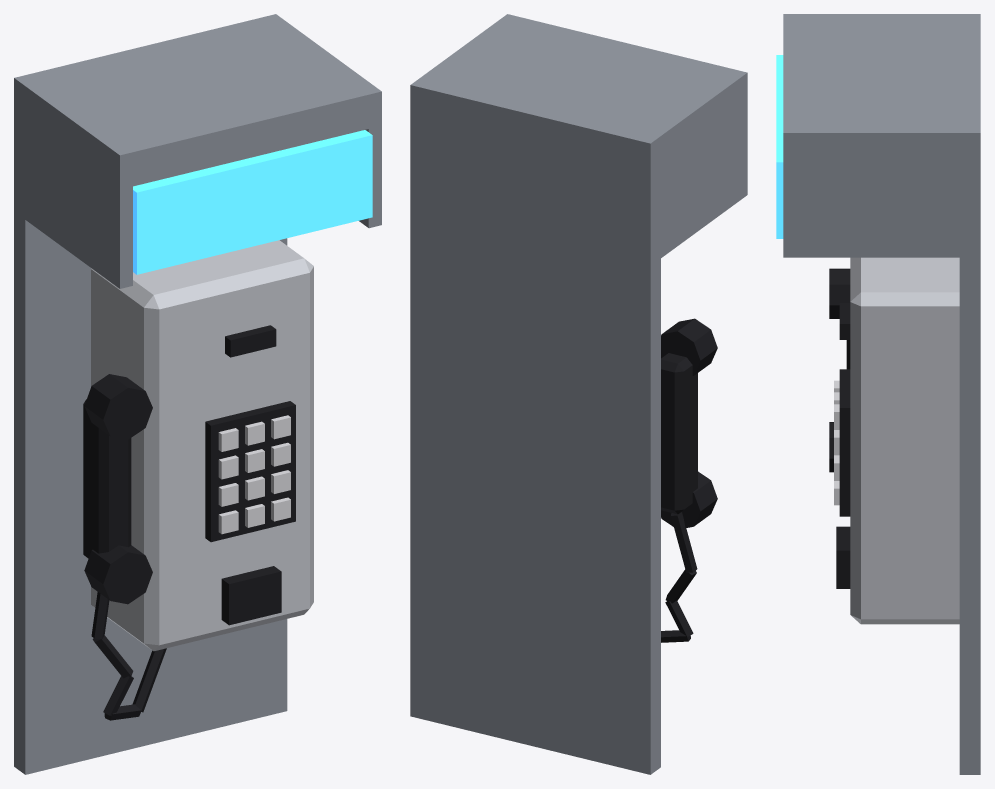
File: payphone.glb
The picture shows the model from 3 angles, left to right: view 1: azimuth 30°, elevation 25°; view 2: azimuth 150°, elevation 25°; view 3: azimuth 270°, elevation 25°; orthographic projection. The views are drawn at different scales.
Visible parts, largest first — view 1: Payphone; view 2: Payphone; view 3: Payphone.
Part boxes in pixels (x1,y1,x2,y2): Payphone: (14,14,381,774); Payphone: (410,14,747,774); Payphone: (776,14,980,774).
Bounding box in the file's own units: 0.4 × 1 × 0.29.
